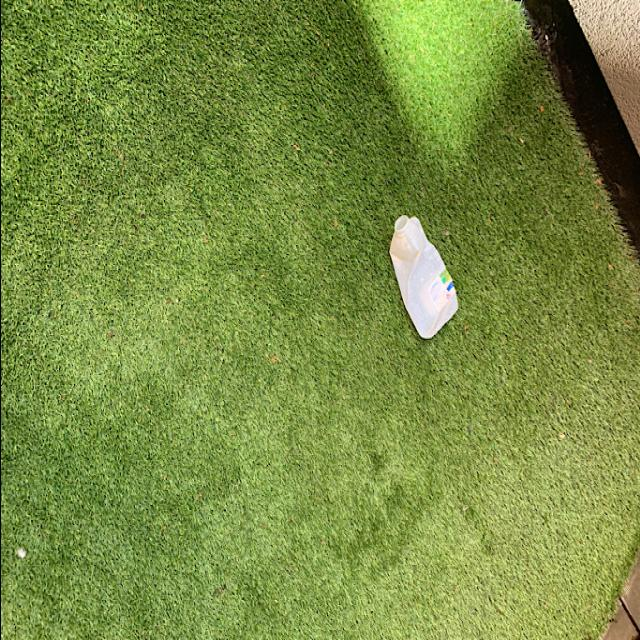HDPEM: (382, 212, 459, 346)
